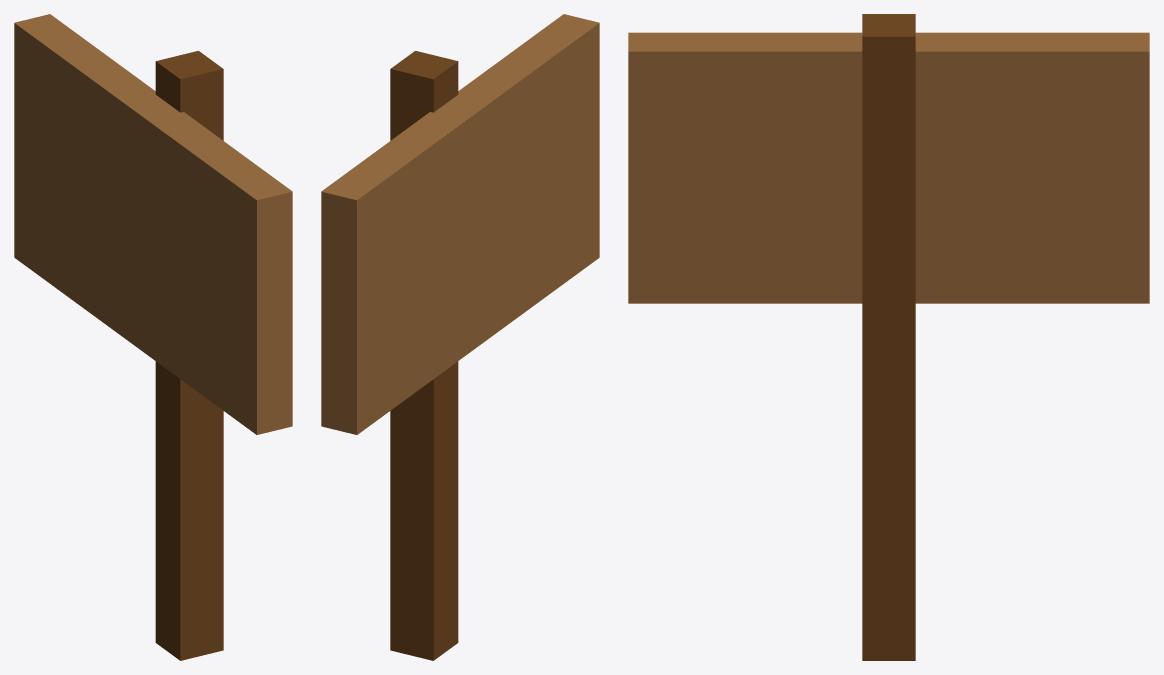
Rendered from Sign.fbx.
The picture shows the model from 3 angles, left to right: view 1: azimuth 30°, elevation 25°; view 2: azimuth 150°, elevation 25°; view 3: azimuth 270°, elevation 25°; orthographic projection. The views are drawn at different scales.
Visible parts, largest first — view 1: Cube.001, Cube; view 2: Cube.001, Cube; view 3: Cube.001, Cube.
Part boxes in pixels (x1,y1,x2,y2): Cube.001: (14, 14, 292, 434); Cube: (155, 51, 223, 660); Cube.001: (321, 14, 599, 434); Cube: (390, 51, 458, 660); Cube.001: (628, 32, 1149, 303); Cube: (862, 14, 915, 660).
Size of the model in its own units: 16.83 by 124 by 93.65.
